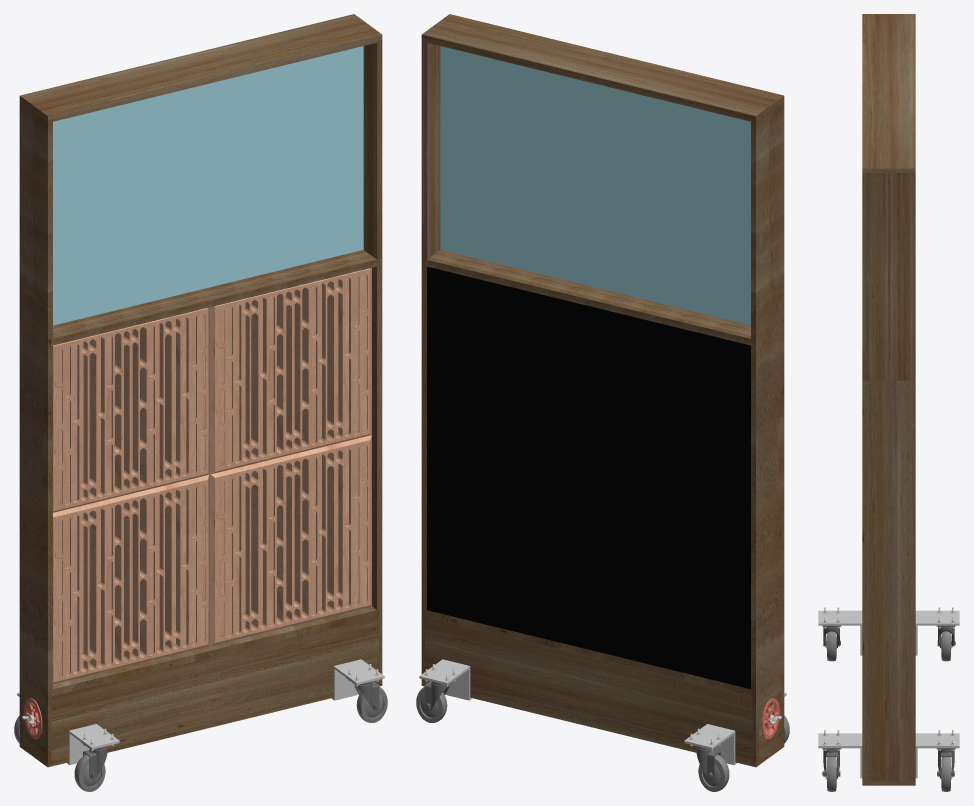
File: RealGobo.glb
The picture shows the model from 3 angles, left to right: view 1: azimuth 30°, elevation 25°; view 2: azimuth 150°, elevation 25°; view 3: azimuth 270°, elevation 25°; orthographic projection. The views are drawn at different scales.
Parts seen in each view (by area): view 1: Body1.002, GuD 23_625x23_625_2 v1, GuD 23_625x23_625_2 v1.003, GuD 23_625x23_625_2 v1.001, GuD 23_625x23_625_2 v1.002, Body2.003, Body6, Body1, Body1.001, Body2.001, Body4, Body6.001 (+7 smaller); view 2: Body1.004, Body1.002, Body2.004, Body6, Body1, Body1.001, Body4.001, Body2, Body4, Body2.002, Body6.001, Body4.002 (+4 smaller); view 3: Body6.001, Body1, Body2.001, Body4.001, Body5.001, Body3.002, Body3.001, Body1.007, Body1.009, Body1.037, Body1.039, Body2.006 (+1 smaller).
Boxes of the visible parts, x1=… form: Body1.002: x1=53, y1=46, x2=363, y2=325; GuD 23_625x23_625_2 v1: x1=209, y1=435, x2=371, y2=645; GuD 23_625x23_625_2 v1.003: x1=209, y1=268, x2=371, y2=474; GuD 23_625x23_625_2 v1.001: x1=53, y1=475, x2=209, y2=683; GuD 23_625x23_625_2 v1.002: x1=53, y1=307, x2=209, y2=512; Body2.003: x1=51, y1=616, x2=378, y2=761; Body6: x1=19, y1=110, x2=52, y2=762; Body1: x1=19, y1=14, x2=382, y2=121; Body1.001: x1=51, y1=250, x2=378, y2=345; Body2.001: x1=363, y1=39, x2=382, y2=259; Body4: x1=34, y1=111, x2=52, y2=339; Body6.001: x1=372, y1=258, x2=382, y2=681; Body1.004: x1=427, y1=266, x2=750, y2=689; Body1.002: x1=440, y1=46, x2=750, y2=325; Body2.004: x1=425, y1=616, x2=752, y2=761; Body6: x1=751, y1=110, x2=784, y2=762; Body1: x1=421, y1=14, x2=784, y2=121; Body1.001: x1=425, y1=250, x2=752, y2=345; Body4.001: x1=421, y1=39, x2=440, y2=259; Body2: x1=751, y1=111, x2=769, y2=339; Body4: x1=770, y1=100, x2=784, y2=328; Body2.002: x1=425, y1=609, x2=752, y2=696; Body6.001: x1=421, y1=258, x2=426, y2=681; Body4.002: x1=421, y1=681, x2=784, y2=767; Body6.001: x1=862, y1=173, x2=915, y2=781; Body1: x1=862, y1=14, x2=915, y2=172; Body2.001: x1=862, y1=173, x2=887, y2=380; Body4.001: x1=890, y1=173, x2=915, y2=380; Body5.001: x1=868, y1=719, x2=909, y2=781; Body3.002: x1=818, y1=610, x2=959, y2=655; Body3.001: x1=818, y1=733, x2=959, y2=778; Body1.007: x1=826, y1=757, x2=836, y2=791; Body1.009: x1=941, y1=757, x2=951, y2=791; Body1.037: x1=941, y1=631, x2=951, y2=661; Body1.039: x1=826, y1=631, x2=836, y2=661; Body2.006: x1=822, y1=748, x2=841, y2=778.
Bounding box in the file's own units: 49.18 × 91.76 × 18.5.
Materials: 9 (2 with a texture image).
